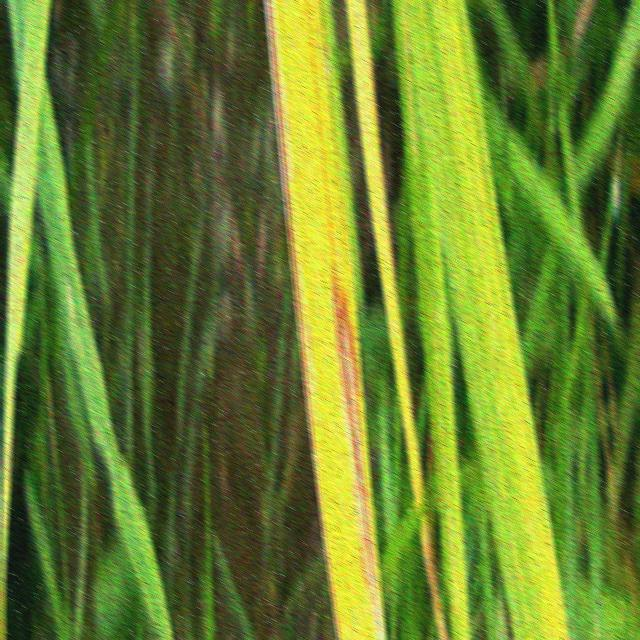LEAF BLAST: (331, 260, 383, 640)
